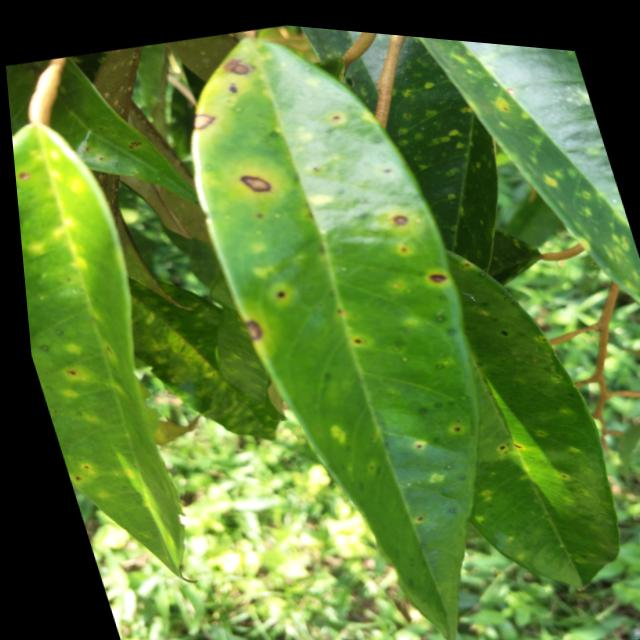Leaf Spot: (307, 372, 472, 466), (358, 256, 435, 351), (304, 82, 370, 145), (225, 152, 287, 206), (207, 36, 270, 89), (223, 151, 277, 200), (226, 307, 270, 346), (182, 96, 223, 135)
